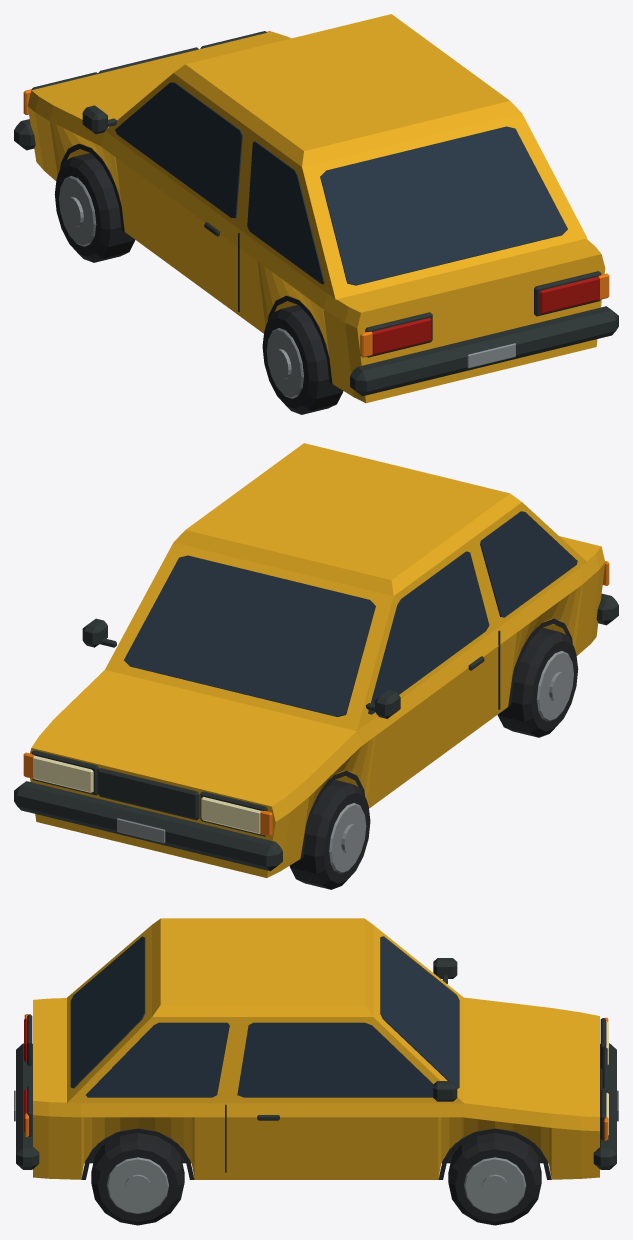
File: 01_Hatchback.fbx
3 renders of one model, top to bottom at view 1: azimuth 30°, elevation 25°; view 2: azimuth 150°, elevation 25°; view 3: azimuth 270°, elevation 25°, orthographic. The views are drawn at different scales.
Parts seen in each view (by area): view 1: Continuous body with open wheel arches, Raked cabin with chamfered roof, Framed rear windshield, Side glass -1 pane 1, Moulded bumper.001, Side glass -1 pane 0, WheelRL_ShapedSidewall, WheelFL_ShapedSidewall, WheelRL_Rim, WheelFL_Rim, Tail lamp.001, Tail lamp (+4 smaller); view 2: Continuous body with open wheel arches, Raked cabin with chamfered roof, Framed opaque windshield, Side glass -1 pane 1, Moulded bumper, Side glass -1 pane 0, WheelRL_ShapedSidewall, WheelFL_ShapedSidewall, Inset radiator grille, WheelFL_Rim, WheelRL_Rim, Headlamp.001 (+3 smaller); view 3: Continuous body with open wheel arches, Raked cabin with chamfered roof, Side glass 1 pane 1, Side glass 1 pane 0, Framed opaque windshield, Framed rear windshield, WheelFR_ShapedSidewall, WheelRR_ShapedSidewall, WheelFR_Rim, WheelRR_Rim, Moulded bumper.001, Moulded bumper (+6 smaller).
Boxes of the visible parts, x1,y1,x2,y2 form: Continuous body with open wheel arches: (27, 31, 605, 403); Raked cabin with chamfered roof: (105, 14, 586, 299); Framed rear windshield: (320, 126, 567, 285); Side glass -1 pane 1: (115, 82, 242, 217); Moulded bumper.001: (350, 306, 618, 396); Side glass -1 pane 0: (247, 141, 324, 284); WheelRL_ShapedSidewall: (262, 303, 343, 414); WheelFL_ShapedSidewall: (54, 152, 135, 262); WheelRL_Rim: (266, 328, 303, 398); WheelFL_Rim: (59, 176, 96, 246); Tail lamp.001: (539, 276, 599, 314); Tail lamp: (372, 317, 431, 355); Continuous body with open wheel arches: (30, 536, 605, 877); Raked cabin with chamfered roof: (105, 443, 587, 730); Framed opaque windshield: (124, 555, 375, 716); Side glass -1 pane 1: (368, 551, 489, 714); Moulded bumper: (14, 781, 282, 871); Side glass -1 pane 0: (480, 511, 577, 617); WheelRL_ShapedSidewall: (497, 626, 578, 737); WheelFL_ShapedSidewall: (289, 778, 370, 889); Inset radiator grille: (97, 768, 199, 820); WheelFL_Rim: (329, 803, 366, 873); WheelRL_Rim: (536, 651, 573, 721); Headlamp.001: (33, 755, 93, 793); Continuous body with open wheel arches: (33, 997, 599, 1179); Raked cabin with chamfered roof: (67, 918, 463, 1103); Side glass 1 pane 1: (237, 1022, 433, 1097); Side glass 1 pane 0: (86, 1022, 229, 1097); Framed opaque windshield: (380, 936, 459, 1088); Framed rear windshield: (70, 936, 145, 1088); WheelFR_ShapedSidewall: (448, 1133, 541, 1225); WheelRR_ShapedSidewall: (91, 1133, 184, 1225); WheelFR_Rim: (464, 1157, 526, 1213); WheelRR_Rim: (106, 1157, 168, 1213); Moulded bumper.001: (16, 1043, 39, 1169); Moulded bumper: (593, 1043, 616, 1169).
Bounding box in the file's own units: 197 × 149 × 390.
